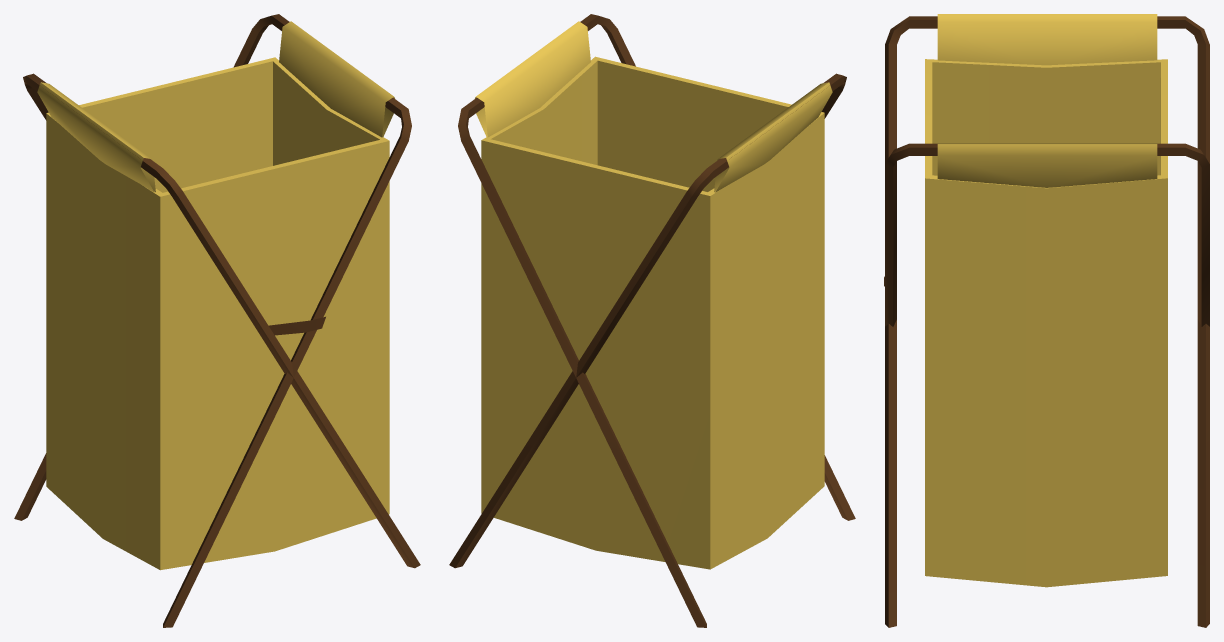
3 renders of one model, left to right at view 1: azimuth 30°, elevation 25°; view 2: azimuth 150°, elevation 25°; view 3: azimuth 270°, elevation 25°, orthographic. The views are drawn at different scales.
Visible parts, largest first — view 1: bathroom_item_002; view 2: bathroom_item_002; view 3: bathroom_item_002.
Part boxes in pixels (left/top/right/bottom): bathroom_item_002: left=14, top=14, right=420, bottom=627; bathroom_item_002: left=449, top=14, right=855, bottom=627; bathroom_item_002: left=884, top=14, right=1209, bottom=627.
Size of the model in its own units: 0.4599 by 0.7714 by 0.4729.
